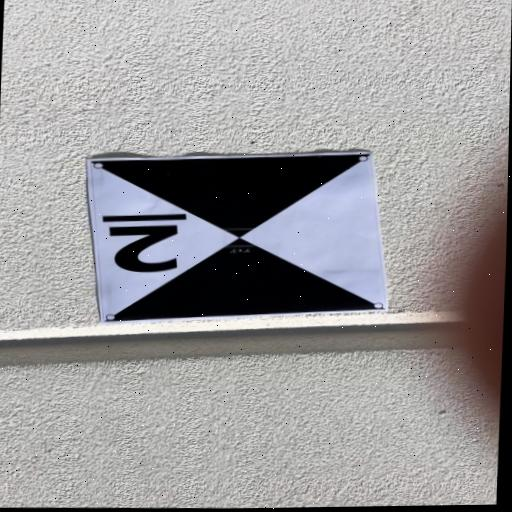target2: (86, 152, 390, 322)
